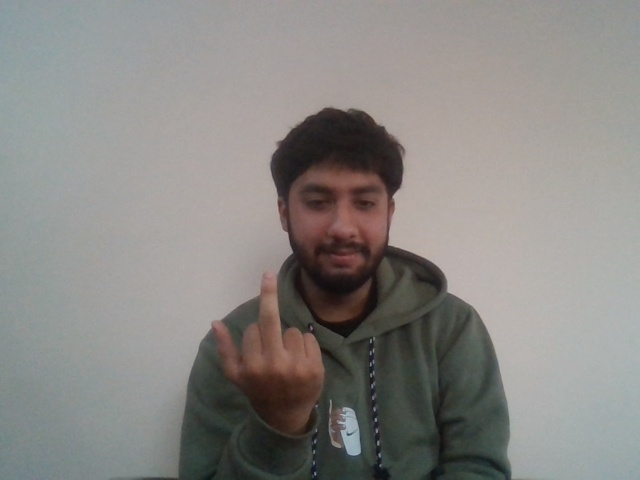Hello: (210, 269, 328, 409)
